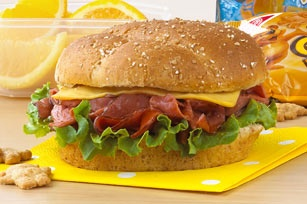background: (0, 0, 147, 55), (0, 14, 25, 60)
